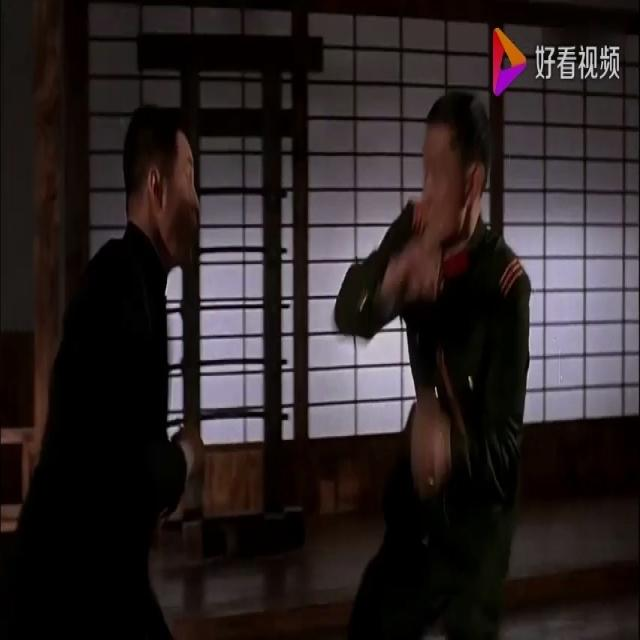fight: (7, 81, 536, 639)
